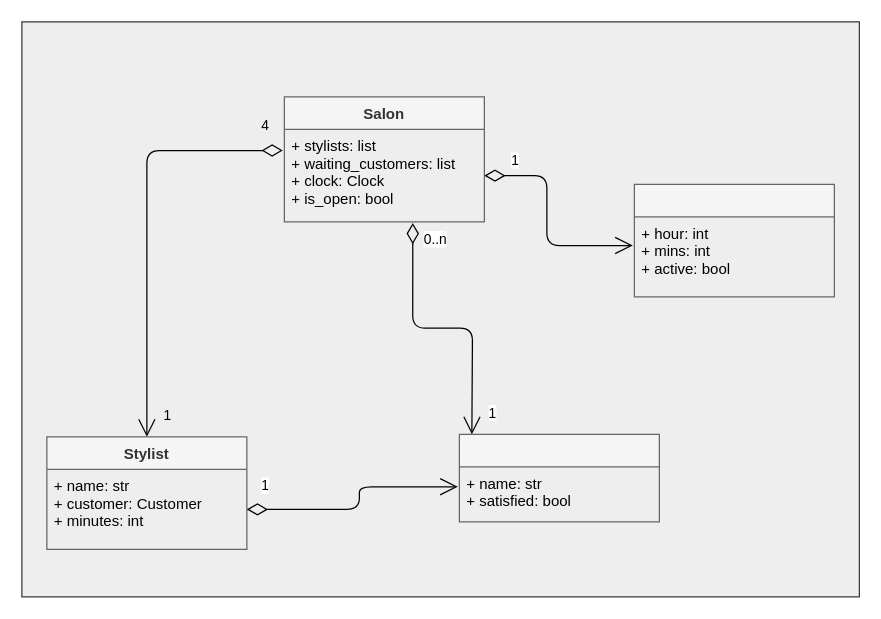
The diagram is 881 pixels wide and 619 high, and some of its shapes have lost their labels. The shapes that lost their labels are listed below. From the top down, each one's box as (x1, y1, x2, y2) in pixels, then its label:
(633, 183, 834, 297): Clock
(458, 433, 659, 522): Customer
